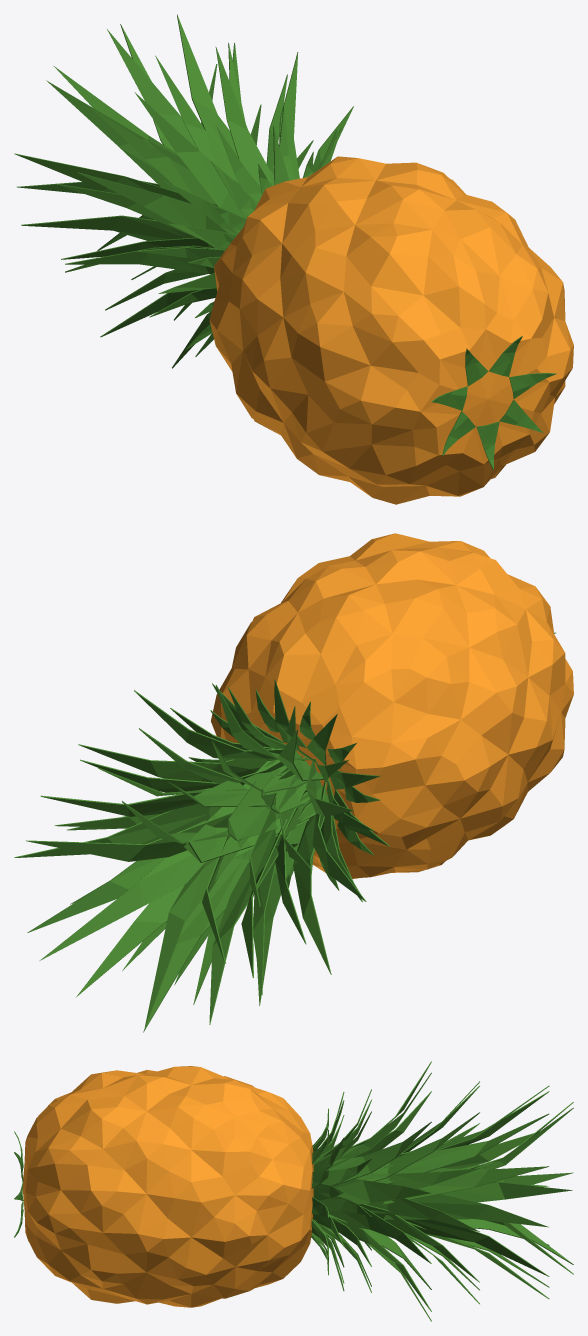
File: Pineapple.fbx
The picture shows the model from 3 angles, top to bottom: view 1: azimuth 30°, elevation 25°; view 2: azimuth 150°, elevation 25°; view 3: azimuth 270°, elevation 25°; orthographic projection. The views are drawn at different scales.
Visible parts, largest first — view 1: Pineapple; view 2: Pineapple; view 3: Pineapple.
Part boxes in pixels (x1=…): Pineapple: x1=14, y1=14, x2=573, y2=504; Pineapple: x1=14, y1=533, x2=573, y2=1032; Pineapple: x1=14, y1=1061, x2=573, y2=1321.
Bounding box in the file's own units: 0.14 × 0.1386 × 0.3009.
